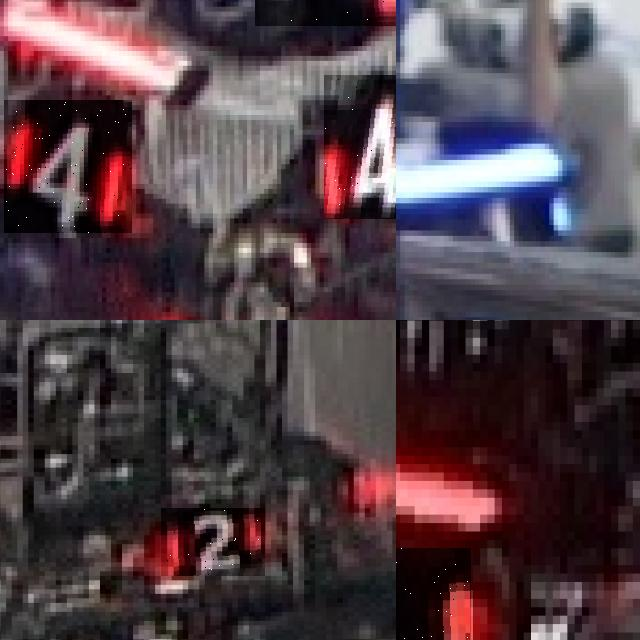R1: (396, 548, 472, 640)
R2: (161, 508, 265, 576)
R4: (4, 100, 132, 233), (323, 75, 396, 218), (255, 0, 396, 26)
